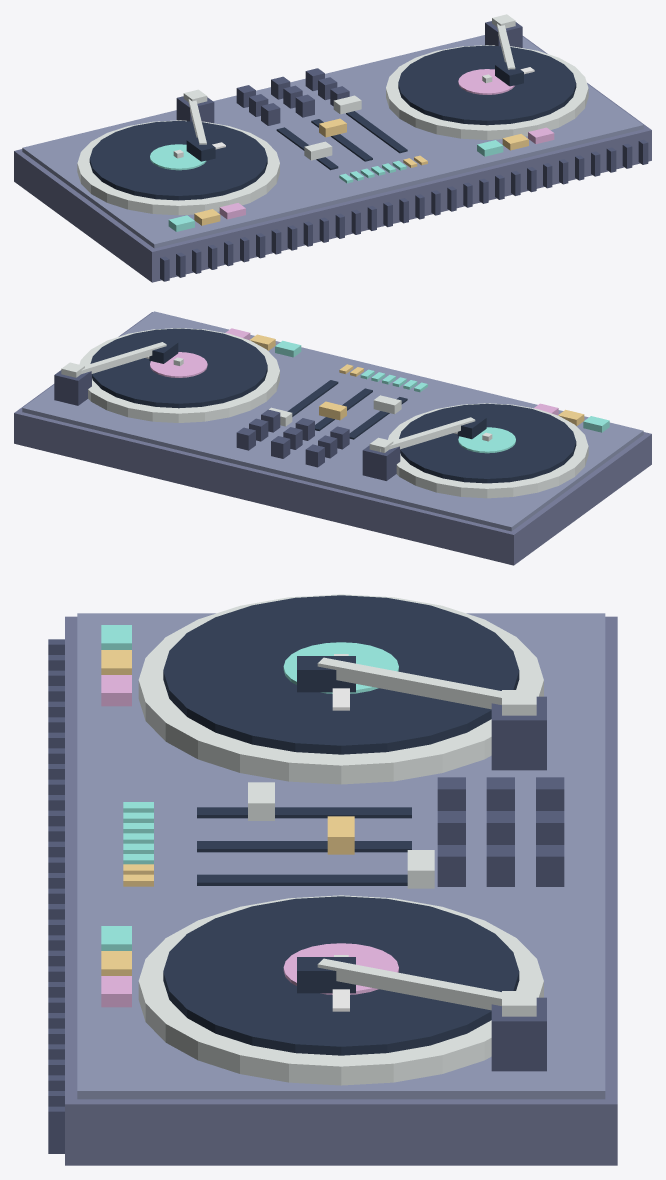
File: control-deck.glb
3 renders of one model, top to bottom at view 1: azimuth 30°, elevation 25°; view 2: azimuth 150°, elevation 25°; view 3: azimuth 270°, elevation 25°, orthographic. The views are drawn at different scales.
Visible parts, largest first — view 1: Surface, DeckCase, Vinyl, Vinyl.001, Platter, Platter.001, Label, Label.001, ArmBase, ArmBase.001, FaderTrack.002, Cartridge (+9 smaller); view 2: Surface, DeckCase, Vinyl, Vinyl.001, Platter, Platter.001, ArmBase, ArmBase.001, Label, Label.001, Tonearm, Tonearm.001 (+10 smaller); view 3: Surface, DeckCase, Vinyl, Vinyl.001, Platter, Platter.001, Tonearm, Tonearm.001, ArmBase, ArmBase.001, FaderTrack.002, FaderTrack.001 (+22 smaller).
Part boxes in pixels (<box>): Surface: <box>22,35,643,248</box>; DeckCase: <box>14,36,651,282</box>; Vinyl: <box>89,120,267,200</box>; Vinyl.001: <box>398,45,576,125</box>; Platter: <box>77,120,279,215</box>; Platter.001: <box>386,45,588,139</box>; Label: <box>150,144,206,170</box>; Label.001: <box>458,69,514,94</box>; ArmBase: <box>176,96,214,123</box>; ArmBase.001: <box>485,21,522,47</box>; FaderTrack.002: <box>346,111,407,153</box>; Cartridge: <box>186,137,215,161</box>; Surface: <box>22,311,643,531</box>; DeckCase: <box>14,312,651,565</box>; Vinyl: <box>399,403,576,483</box>; Vinyl.001: <box>90,328,267,408</box>; Platter: <box>388,403,588,498</box>; Platter.001: <box>79,328,279,422</box>; ArmBase: <box>362,445,400,480</box>; ArmBase.001: <box>54,370,91,405</box>; Label: <box>458,427,515,453</box>; Label.001: <box>150,352,207,377</box>; Tonearm: <box>380,417,475,451</box>; Tonearm.001: <box>81,342,166,373</box>; Surface: <box>77,613,605,1099</box>; DeckCase: <box>65,616,617,1165</box>; Vinyl: <box>163,595,519,754</box>; Vinyl.001: <box>163,896,519,1055</box>; Platter: <box>138,594,543,784</box>; Platter.001: <box>138,895,543,1085</box>; Tonearm: <box>317,657,501,709</box>; Tonearm.001: <box>317,958,501,1010</box>; ArmBase: <box>491,696,546,770</box>; ArmBase.001: <box>491,997,546,1071</box>; FaderTrack.002: <box>197,874,407,885</box>; FaderTrack.001: <box>197,841,411,852</box>.
Size of the model in its own units: 9.4 by 1.2 by 4.63.
